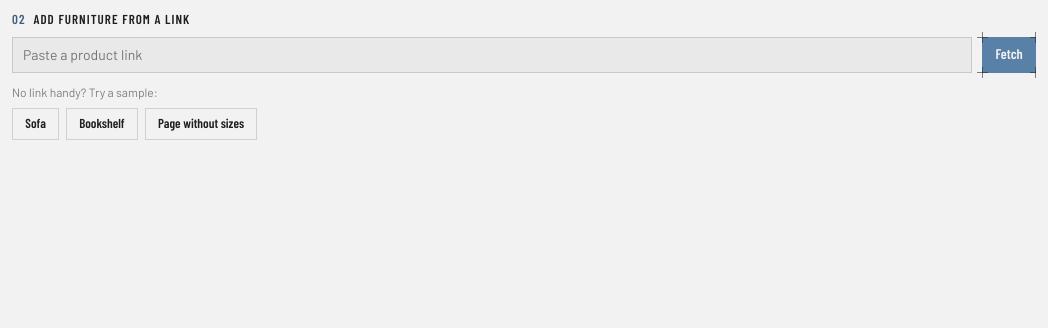
Test: AddFurnitureSection › shows the preview card with host, name, price, model tag, inputs and actions
Click the button "Sofa" at (36, 124), box [12,108,59,140]
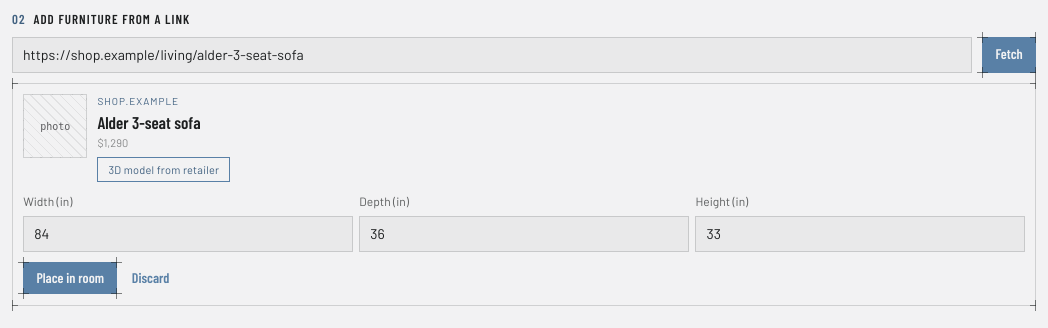
expect the number field labelled "Width (in)" holds "84": met, box [23,216,352,252]
expect the number field labelled "Depth (in)" holds "36": met, box [359,216,689,252]
expect the number field labelled "Height (in)" holds "33": met, box [696,216,1025,252]
